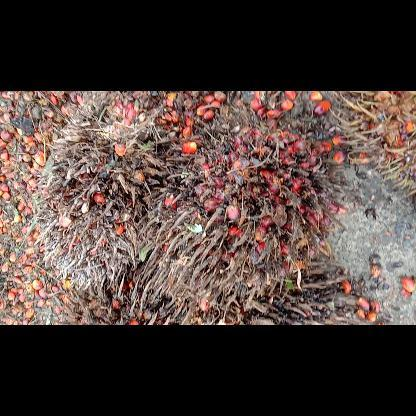Terlalu masak: (133, 98, 349, 316), (33, 90, 249, 274)
